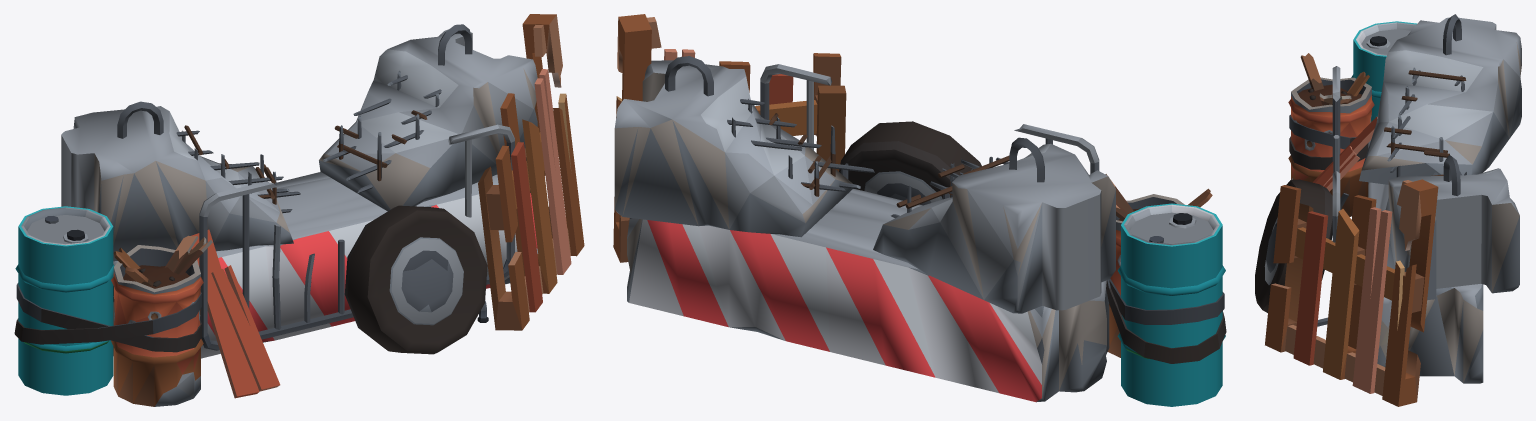
File: barricada_sucata_pacote.glb
3 views of the same model, side by side, from view 1: azimuth 30°, elevation 25°; view 2: azimuth 150°, elevation 25°; view 3: azimuth 270°, elevation 25° (orthographic). The views are drawn at different scales.
Parts seen in each view (by area): view 1: barricada_sucata_pacote; view 2: barricada_sucata_pacote; view 3: barricada_sucata_pacote.
Part boxes in pixels (x1,y1,x2,y2): barricada_sucata_pacote: (14,14,584,406); barricada_sucata_pacote: (613,14,1226,406); barricada_sucata_pacote: (1255,14,1521,406).
Size of the model in its own units: 3.55 by 1.41 by 1.58.
1 material, 1 textured.
